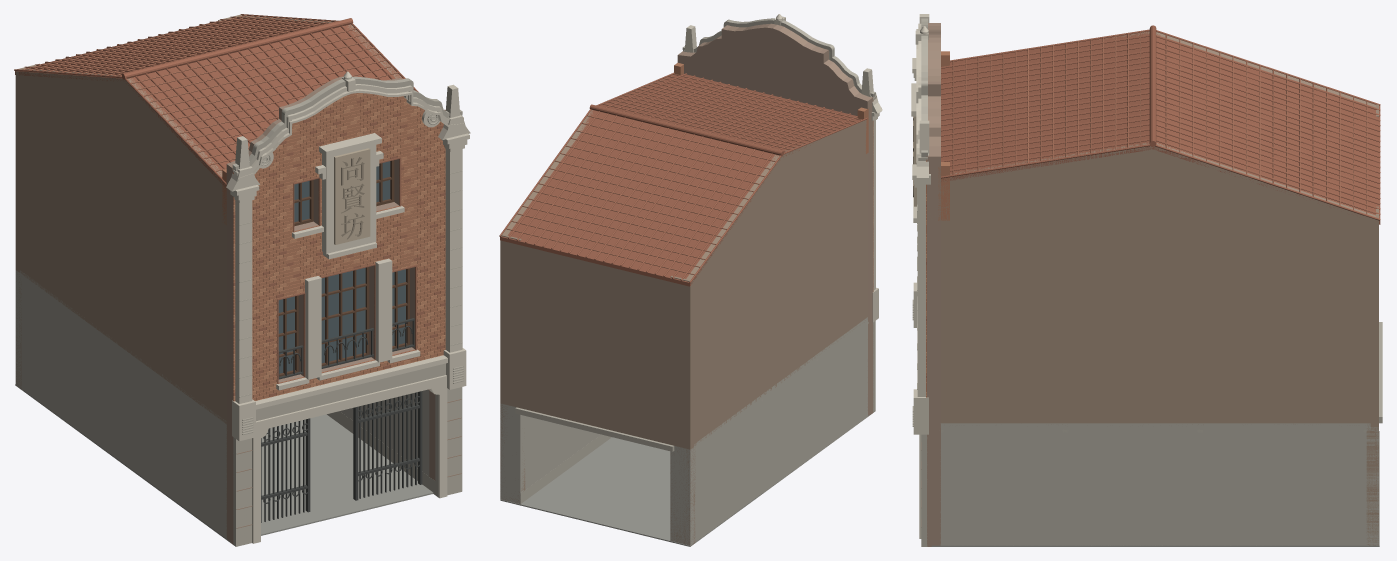
File: huangpu-shangxianfang-gate-raw.glb
3 views of the same model, side by side, from view 1: azimuth 30°, elevation 25°; view 2: azimuth 150°, elevation 25°; view 3: azimuth 270°, elevation 25° (orthographic). The views are drawn at different scales.
Parts seen in each view (by area): view 1: 尚贤坊（淮海中路主弄门楼）; view 2: 尚贤坊（淮海中路主弄门楼）; view 3: 尚贤坊（淮海中路主弄门楼）.
Part boxes in pixels (<box>): 尚贤坊（淮海中路主弄门楼）: <box>14,14,470,546</box>; 尚贤坊（淮海中路主弄门楼）: <box>499,14,882,546</box>; 尚贤坊（淮海中路主弄门楼）: <box>911,14,1382,546</box>.
Bounding box in the file's own units: 7.41 × 13.23 × 12.2.
